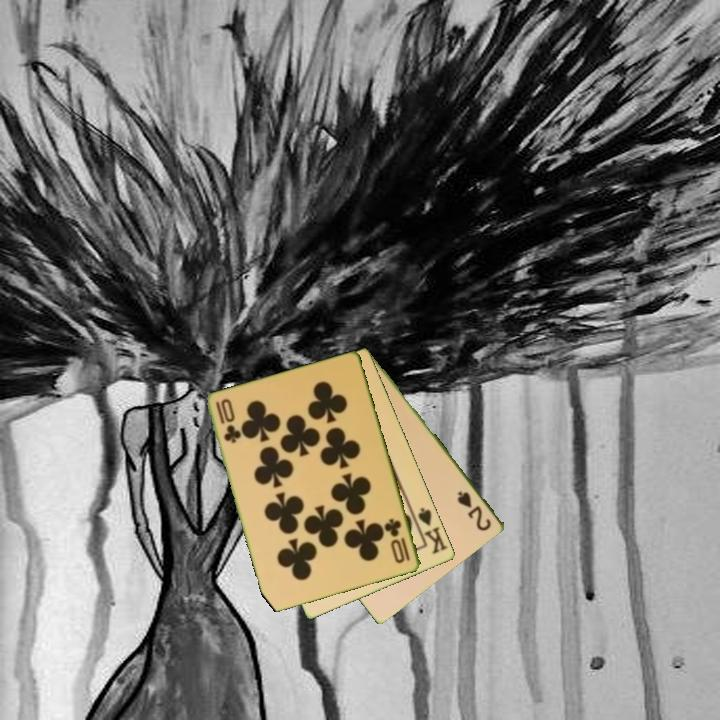10c: (382, 515, 413, 567), (213, 398, 243, 446)
2s: (454, 487, 495, 534)
Ks: (415, 504, 451, 557)
